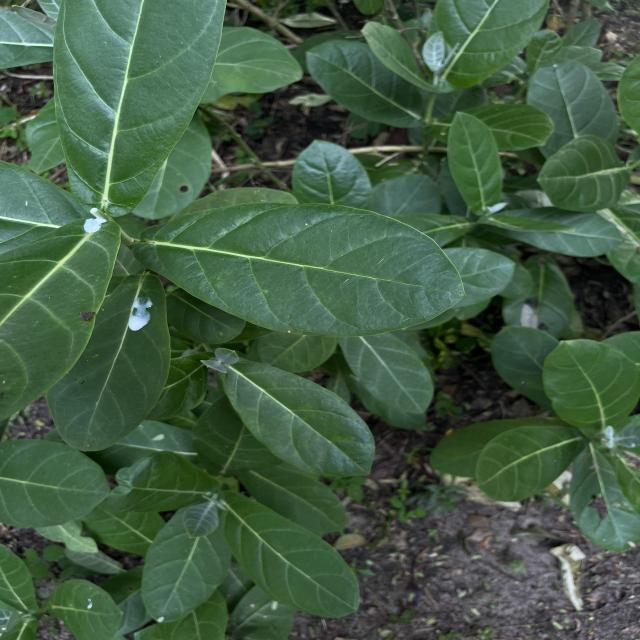Calotropis gigantea: (130, 201, 468, 340), (49, 0, 230, 210), (46, 272, 174, 454), (223, 358, 376, 478), (221, 496, 362, 619), (140, 498, 233, 624), (304, 39, 428, 130), (539, 337, 640, 441), (474, 422, 590, 502), (536, 133, 632, 214), (446, 110, 504, 214), (358, 336, 434, 414)
